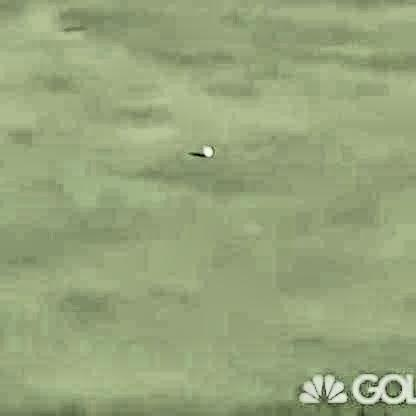golfball: (200, 143, 213, 156)
